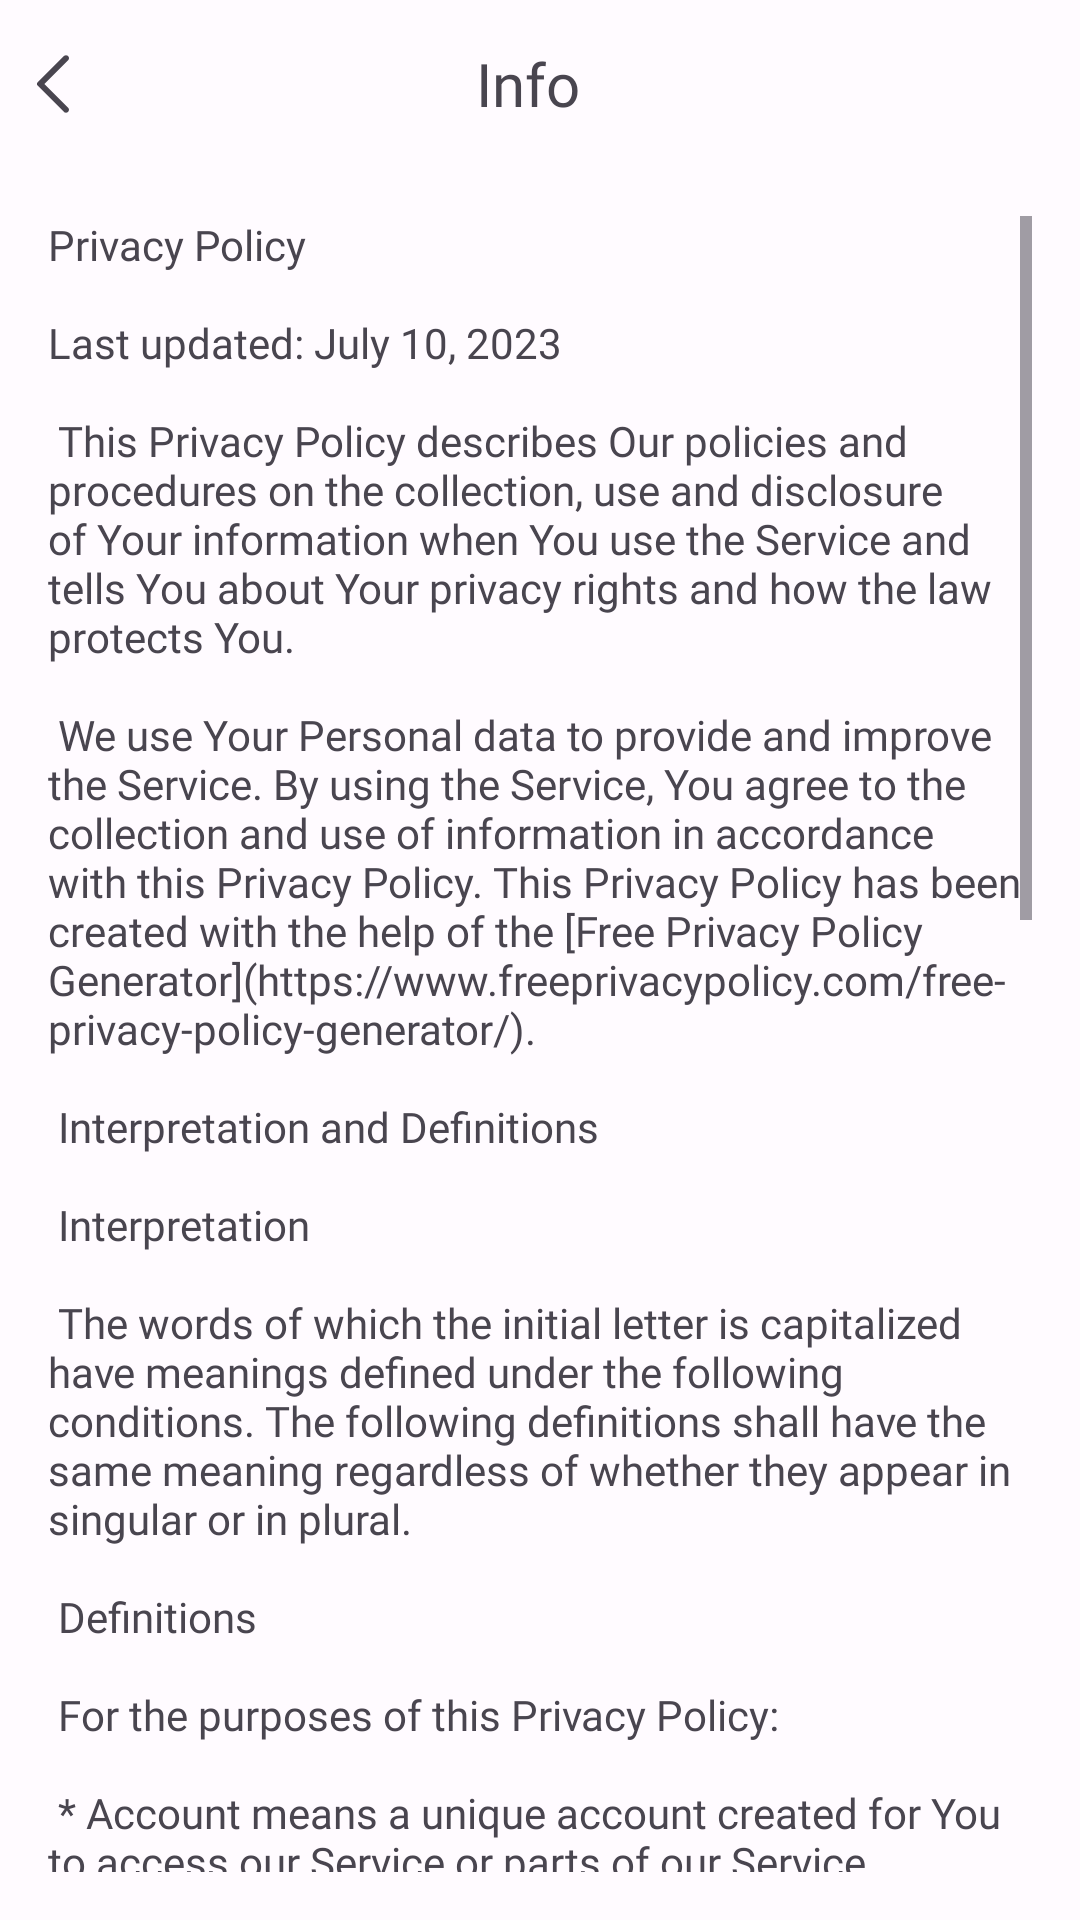

Icon click points for this 1080px x 1920px phone screenshot, format [x,y]:
back: [53,84]
